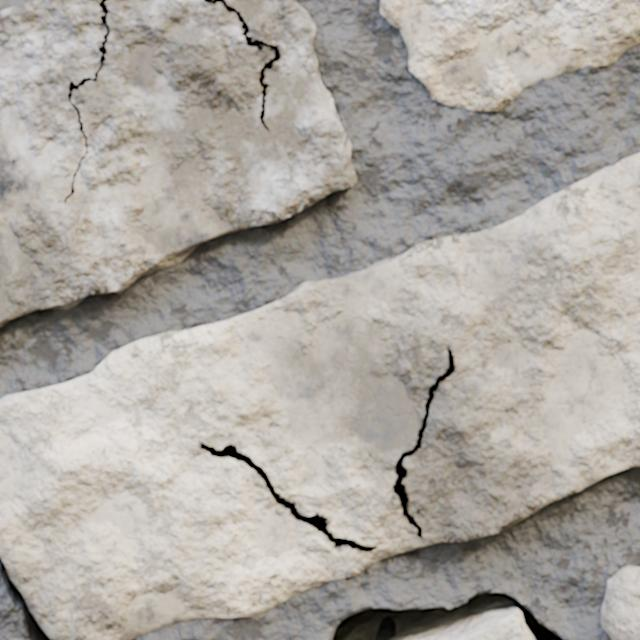crack: (0, 153, 639, 639), (0, 0, 356, 327), (380, 0, 639, 112), (328, 589, 568, 639), (601, 566, 639, 639)
